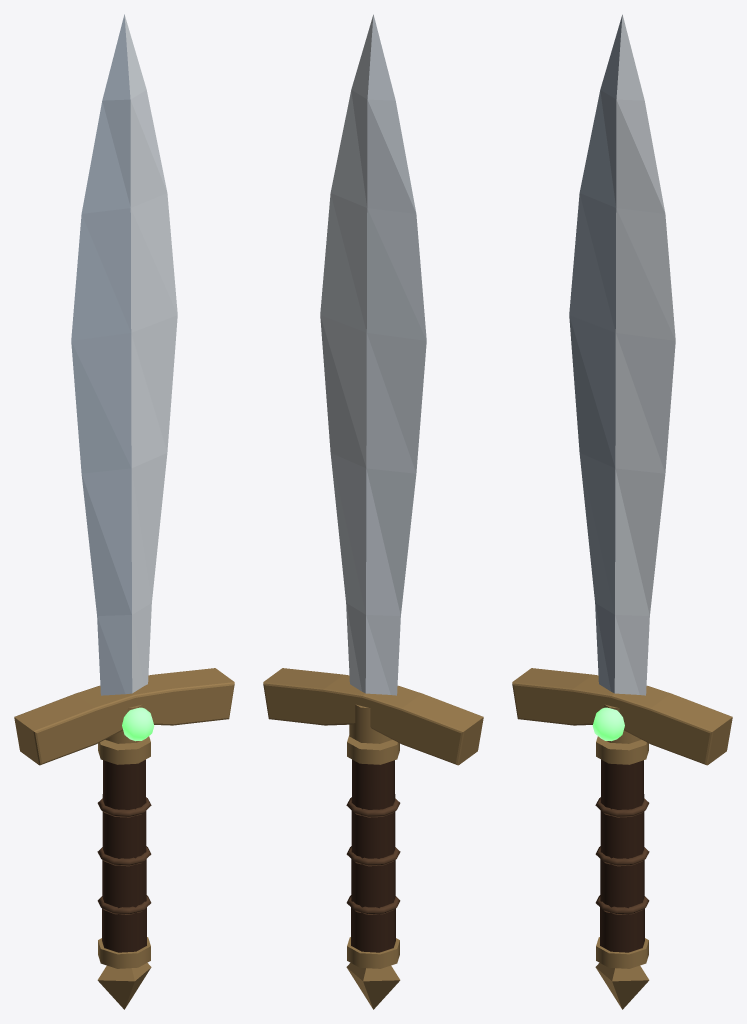
File: sword_f2_c19a1cdf.glb
The picture shows the model from 3 angles, left to right: view 1: azimuth 30°, elevation 25°; view 2: azimuth 150°, elevation 25°; view 3: azimuth 330°, elevation 25°; orthographic projection.
Visible parts, largest first — view 1: m0_ow80_, m3_ow80_, m1_ow80_, m4_ow80_, m2_; view 2: m0_ow80_, m3_ow80_, m1_ow80_, m4_ow80_; view 3: m0_ow80_, m3_ow80_, m1_ow80_, m4_ow80_, m2_.
Boxes of the visible parts, <box> form: m0_ow80_: <box>71,14,177,695</box>; m3_ow80_: <box>14,668,234,1009</box>; m1_ow80_: <box>102,759,146,952</box>; m4_ow80_: <box>97,797,151,914</box>; m2_: <box>122,707,154,741</box>; m0_ow80_: <box>320,14,426,695</box>; m3_ow80_: <box>263,668,483,1009</box>; m1_ow80_: <box>351,759,395,952</box>; m4_ow80_: <box>346,797,400,914</box>; m0_ow80_: <box>569,14,675,695</box>; m3_ow80_: <box>512,668,732,1009</box>; m1_ow80_: <box>600,759,644,952</box>; m4_ow80_: <box>595,797,649,914</box>; m2_: <box>592,707,624,741</box>.
Size of the model in its own units: 0.3891 by 1.84 by 0.1189.
